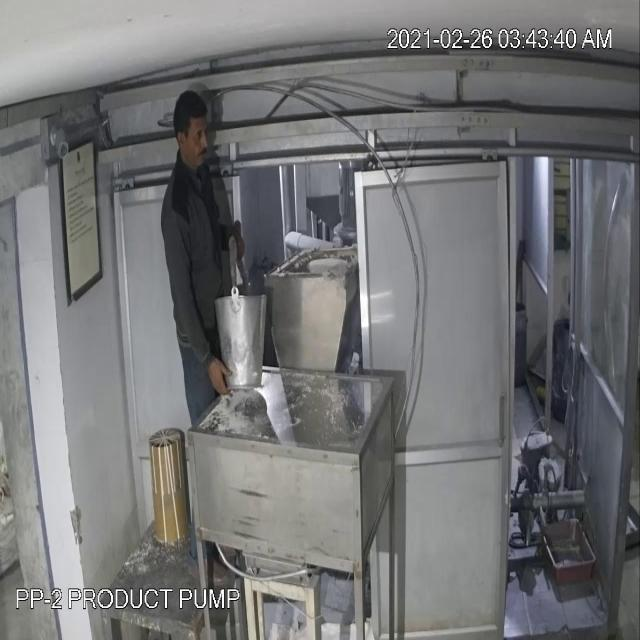no-helmet: (167, 79, 215, 177)
